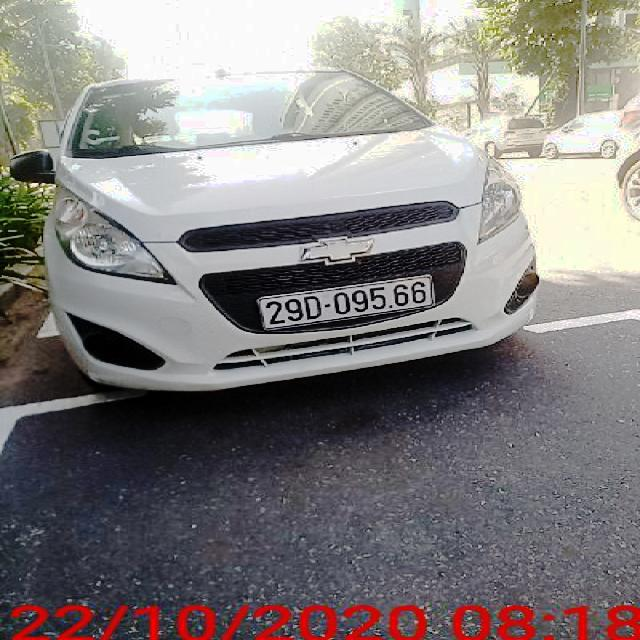license_plate: (255, 274, 439, 331)
